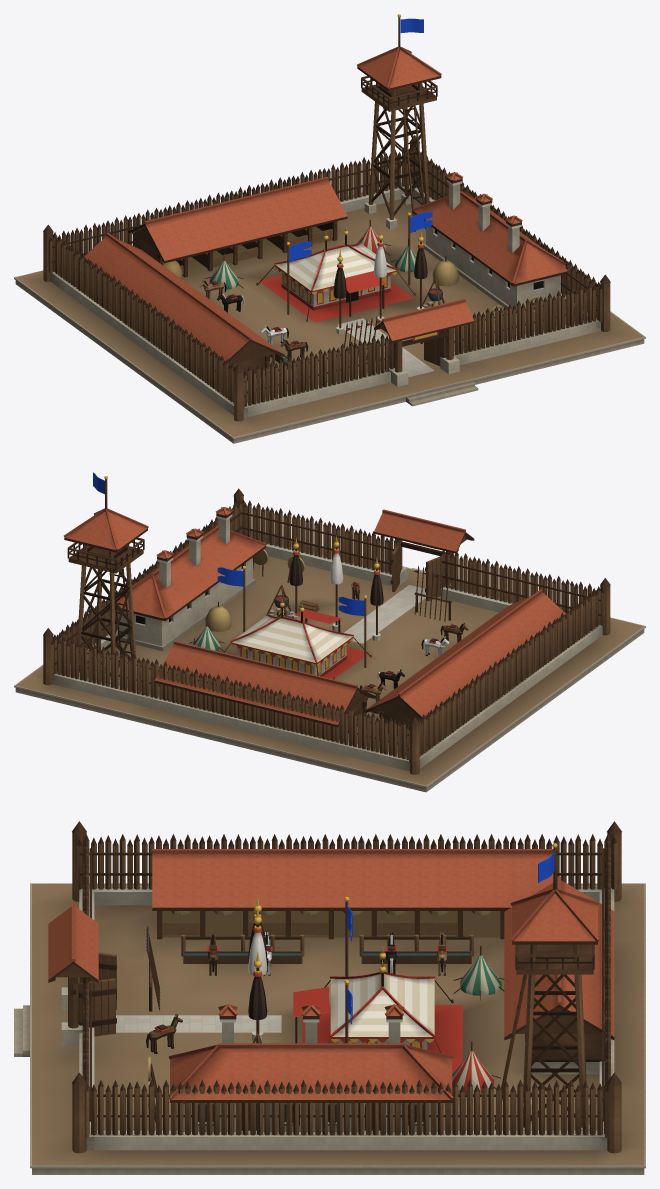
File: lm_akinciocagi.glb
3 renders of one model, top to bottom at view 1: azimuth 30°, elevation 25°; view 2: azimuth 150°, elevation 25°; view 3: azimuth 270°, elevation 25°, orthographic. The views are drawn at different scales.
Visible parts, largest first — view 1: lm_akinciocagi; view 2: lm_akinciocagi; view 3: lm_akinciocagi.
Boxes of the visible parts, <box> form: lm_akinciocagi: <box>14,14,645,443</box>; lm_akinciocagi: <box>14,472,645,792</box>; lm_akinciocagi: <box>14,821,645,1174</box>.
Bounding box in the file's own units: 2.25 × 1.08 × 2.13.
1 material, 1 textured.
